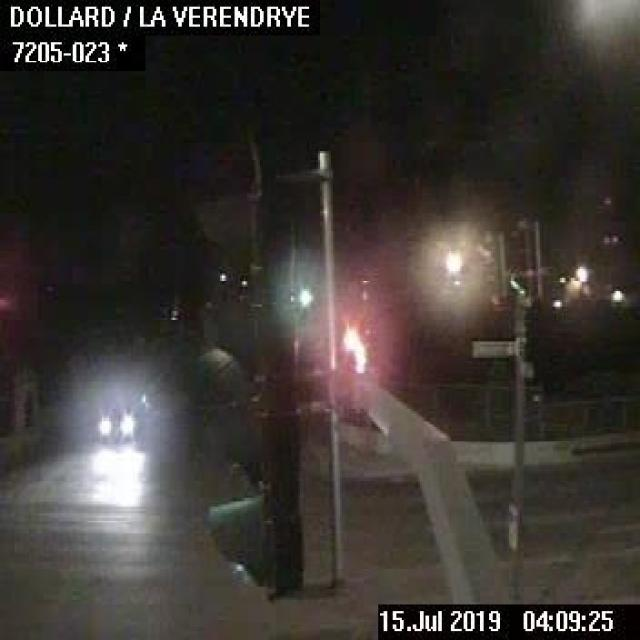vehicle: (94, 396, 146, 440)
